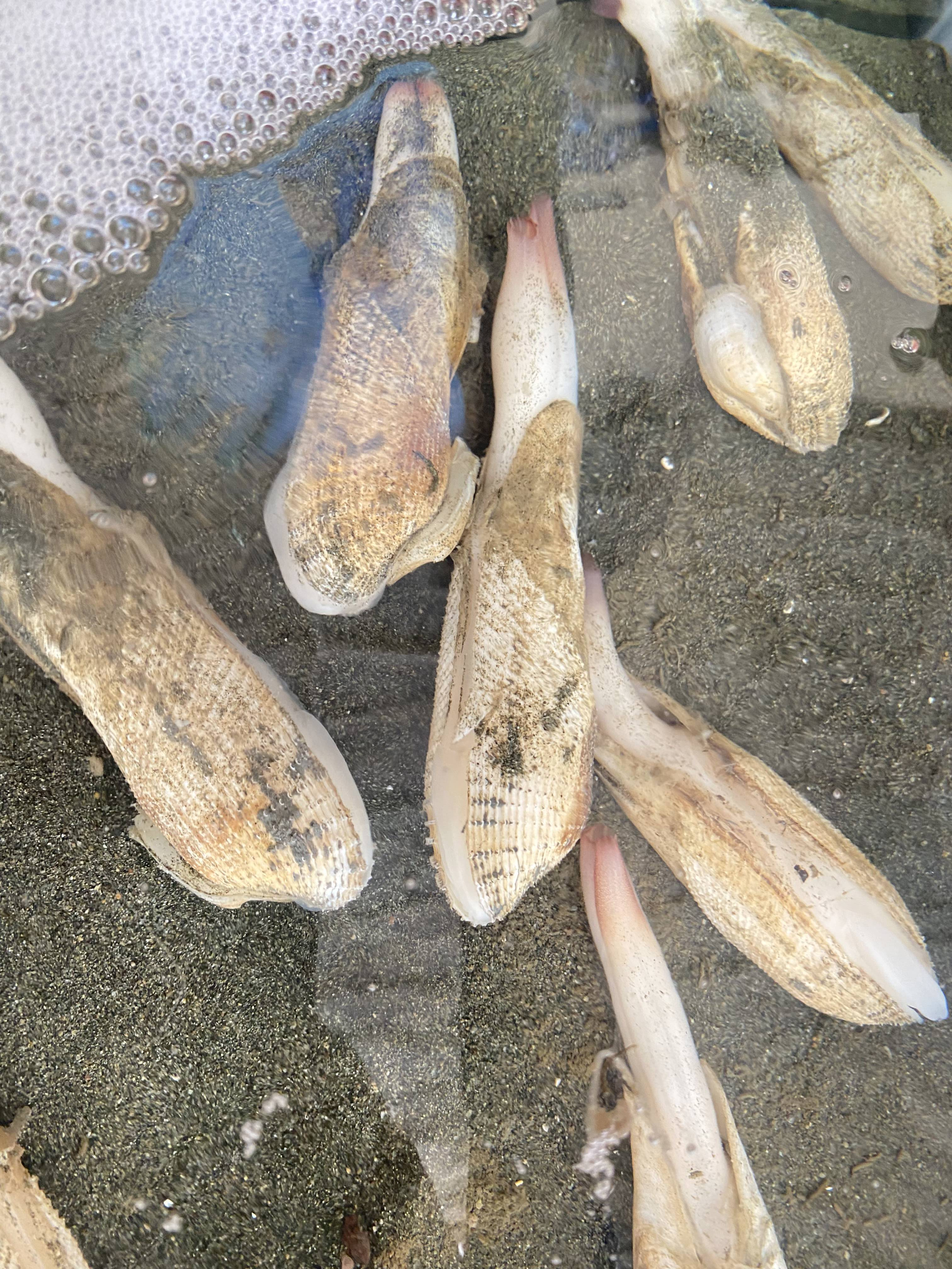Healthy: (584, 560, 946, 1022), (425, 196, 594, 924), (596, 0, 852, 452), (581, 826, 727, 1263), (368, 77, 458, 206)
